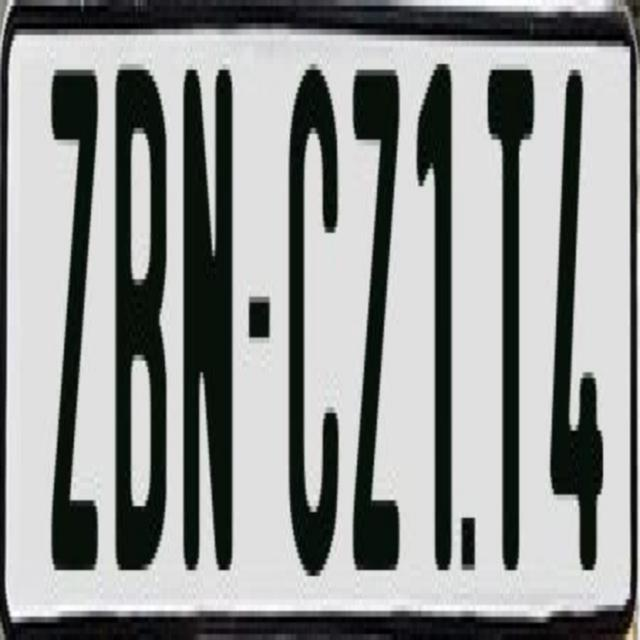1: (416, 52, 452, 558)
4: (546, 58, 607, 570)
B: (112, 70, 170, 606)
C: (286, 64, 336, 611)
N: (182, 70, 238, 576)
T: (488, 52, 539, 564)
Z: (351, 64, 407, 582), (47, 58, 97, 576)
